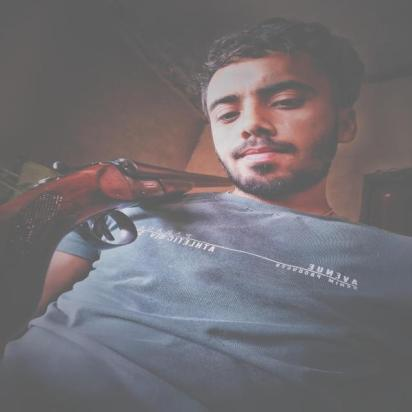Gun: (0, 156, 238, 341)
